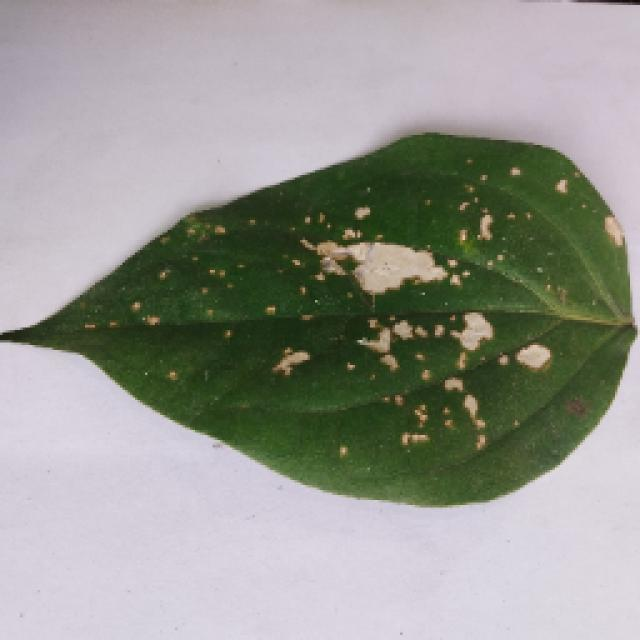pollu-disease: (0, 122, 622, 517)
